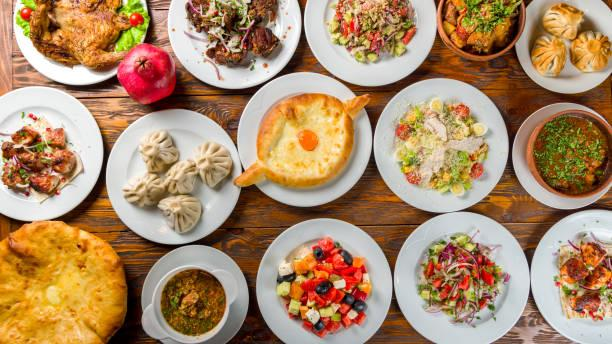Braised Crucian Carp: (374, 76, 507, 213), (393, 211, 530, 343), (106, 108, 239, 243), (236, 71, 366, 206), (255, 217, 391, 342), (2, 84, 104, 222), (168, 1, 297, 90), (14, 1, 149, 85), (304, 0, 432, 87), (530, 209, 611, 342), (512, 102, 610, 209), (514, 0, 610, 95), (142, 264, 241, 341), (436, 0, 527, 61)
